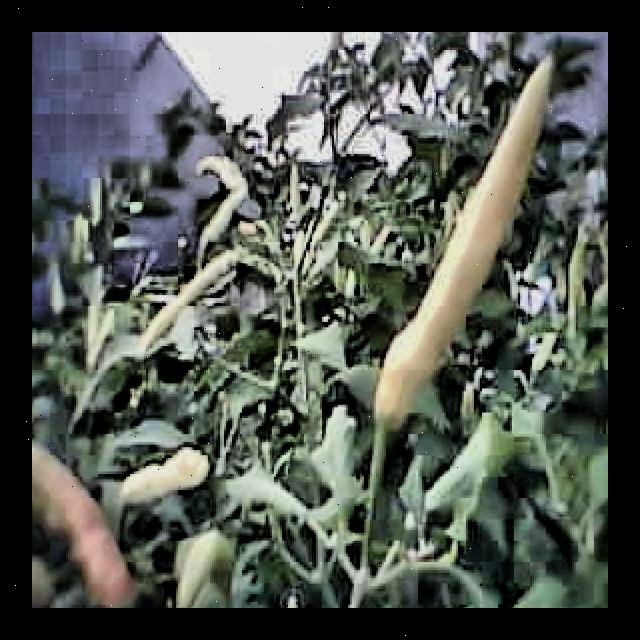Cabai: (32, 428, 128, 608)
